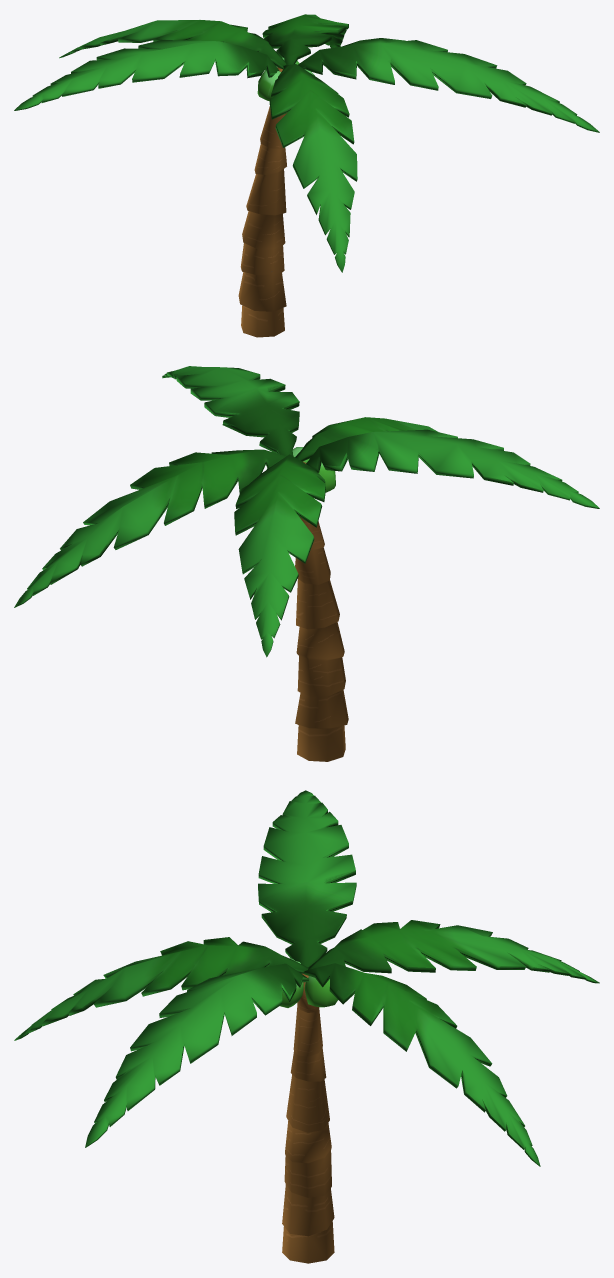
File: Tree1.fbx
3 views of the same model, one above another, from view 1: azimuth 30°, elevation 25°; view 2: azimuth 150°, elevation 25°; view 3: azimuth 270°, elevation 25° (orthographic). The views are drawn at different scales.
Visible parts, largest first — view 1: tree1.002; view 2: tree1.002; view 3: tree1.002.
Part boxes in pixels (box(x1,y1,x2,y2)): tree1.002: box(14, 14, 599, 337); tree1.002: box(14, 366, 599, 761); tree1.002: box(14, 790, 599, 1263).
Size of the model in its own units: 2483 by 1481 by 2234.
Materials: 1 (1 with a texture image).
